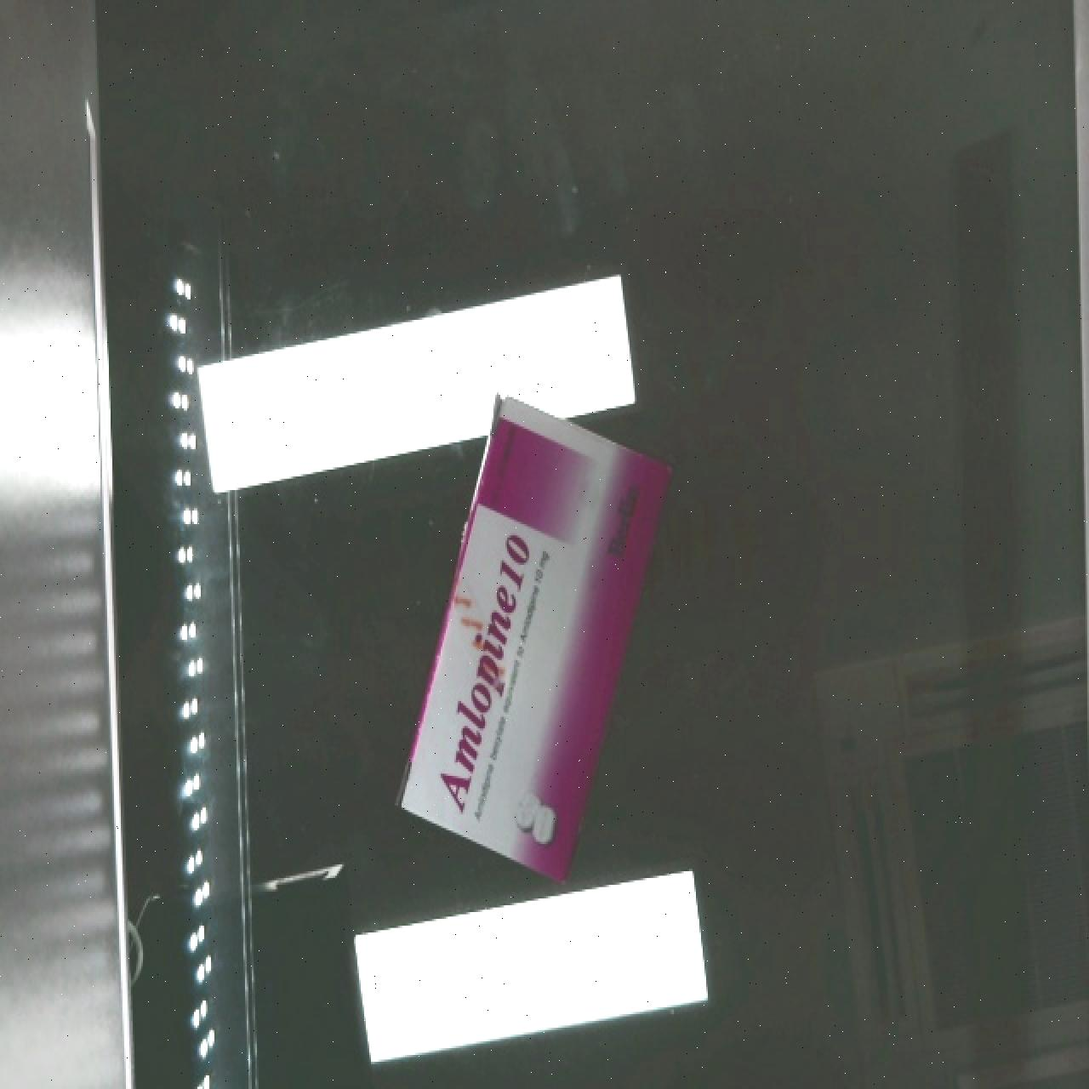medicine_label_obb: (400, 511, 557, 830)
